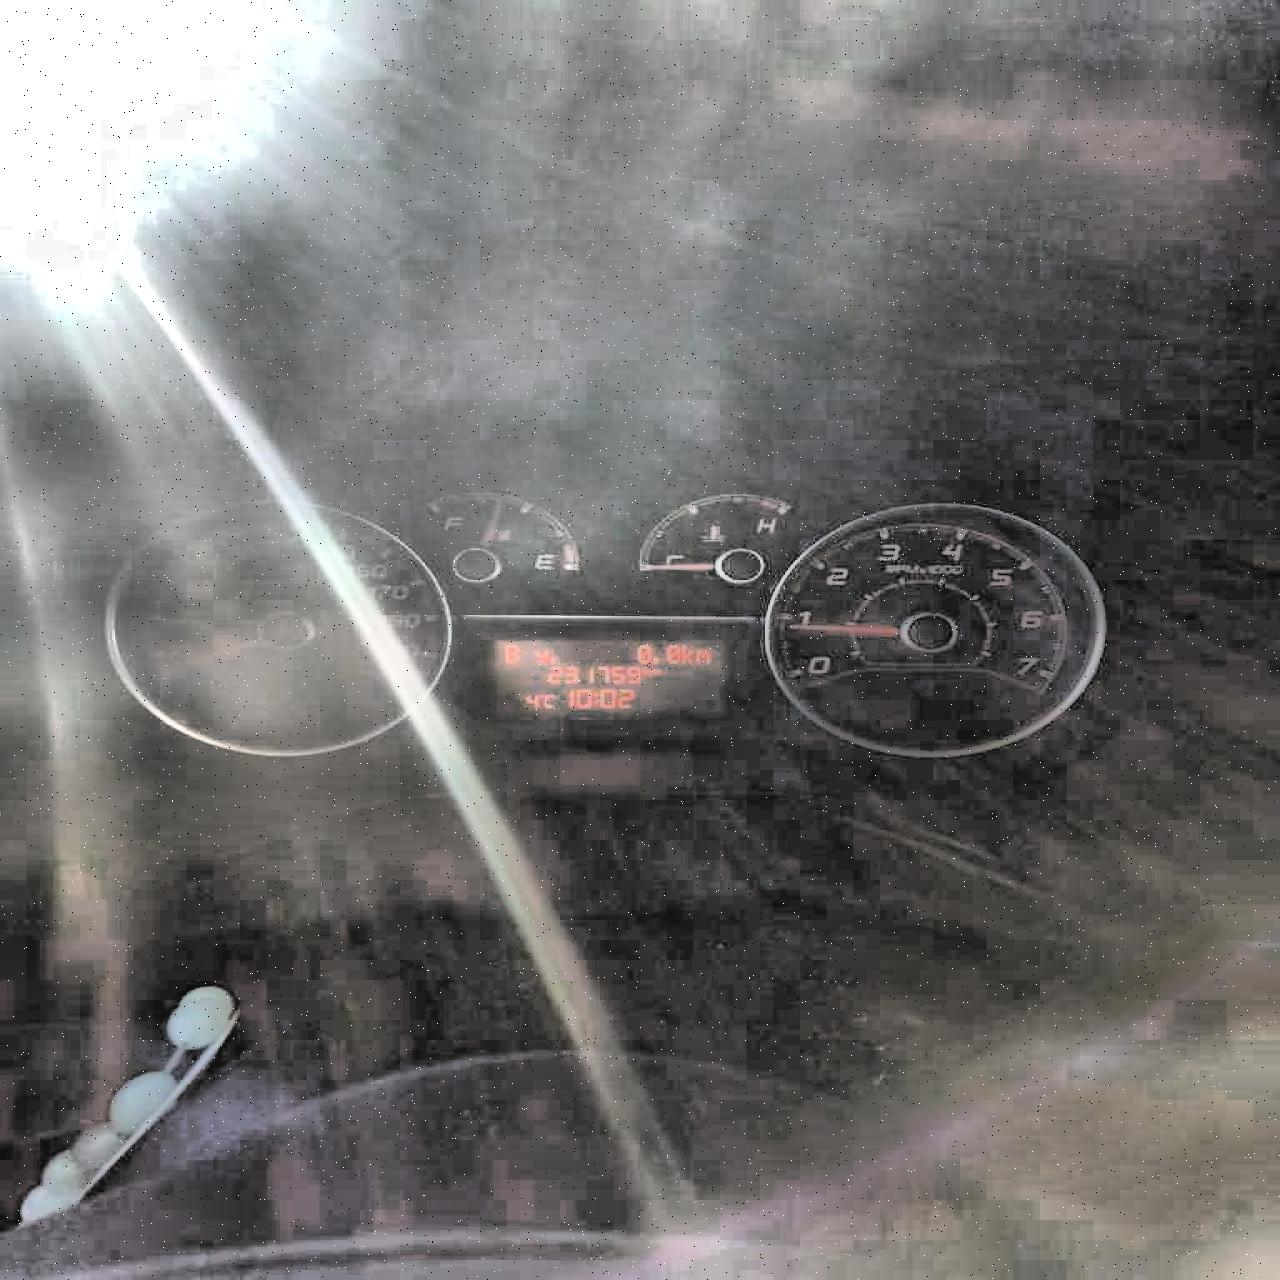-: (649, 655, 659, 662), (549, 656, 554, 662)
0: (598, 688, 614, 708), (635, 644, 651, 663), (665, 644, 680, 662), (576, 688, 590, 708)
1: (567, 688, 573, 708), (587, 667, 593, 682)
2: (614, 688, 633, 708), (545, 666, 560, 682)
3: (564, 666, 577, 682)
4: (525, 694, 537, 708)
5: (610, 666, 624, 682)
7: (594, 665, 608, 681)
9: (625, 666, 640, 682)
X: (503, 644, 519, 663), (693, 647, 710, 662), (680, 644, 692, 663), (542, 693, 556, 708), (533, 648, 549, 662), (592, 692, 597, 703)
odometer: (482, 635, 730, 720)
